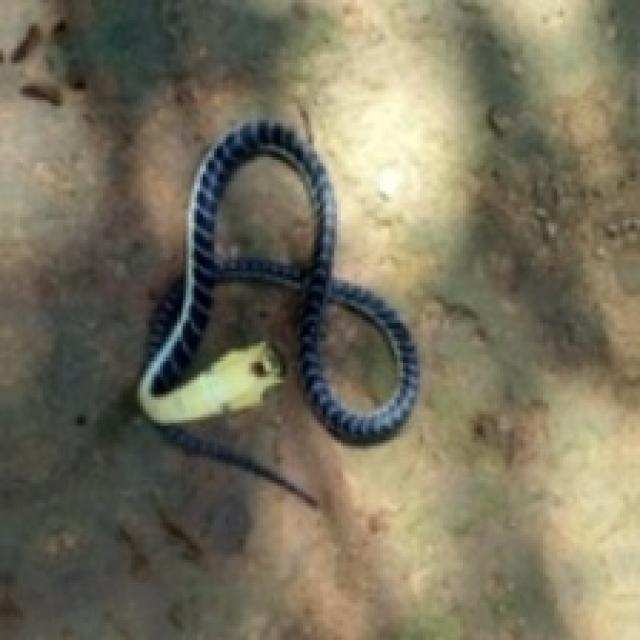king cobra: (137, 120, 417, 503), (211, 151, 317, 269), (317, 300, 397, 411)
